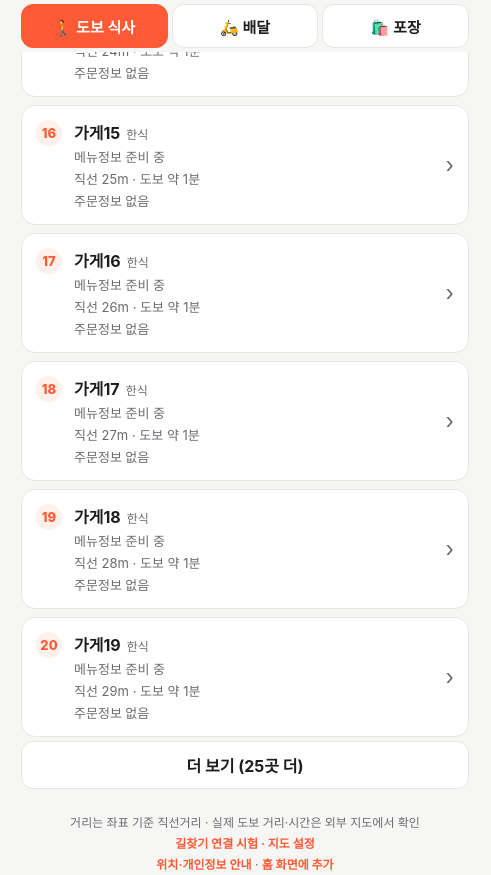
Test case: 8단계 — 시범 서비스 점검 › 긴 목록은 20곳씩 보여준다 (더 보기)
(page scrolled)
Click the button "더 보기 (25곳 더)".
click(245, 765)  # box [21,741,469,789]
(page scrolled)
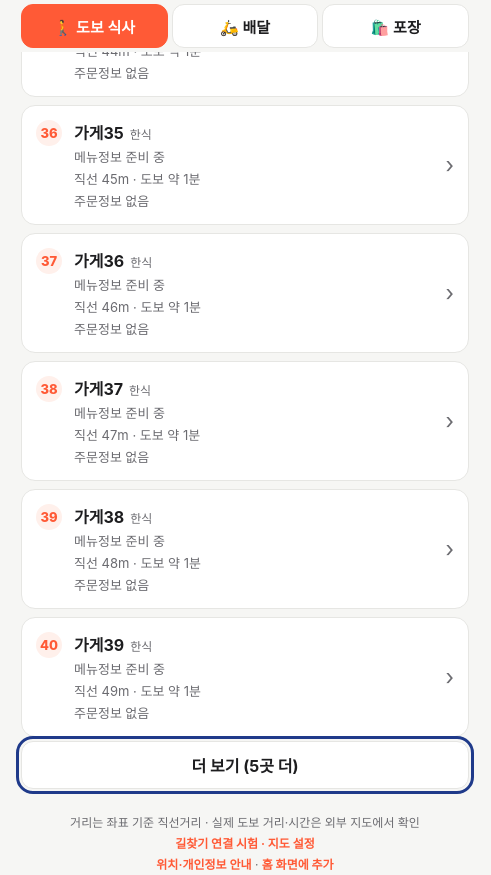
Click the button "더 보기 (5곳 더)".
click(245, 765)  # box [21,741,469,789]
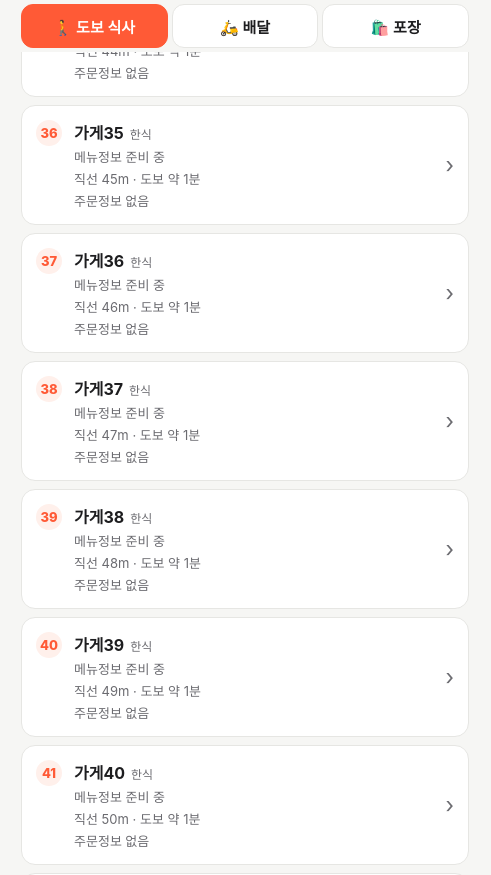
Check: the button "더 보기" is gone
